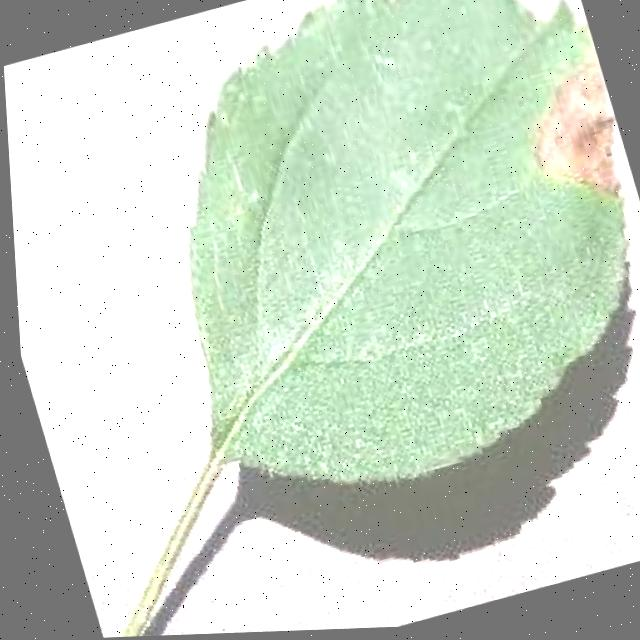black_rot: (487, 50, 640, 234)
